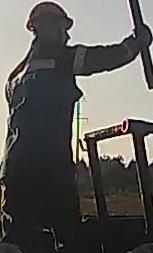gloves: (122, 23, 153, 60)
helmet: (25, 0, 75, 33)
vest: (1, 43, 88, 175)
